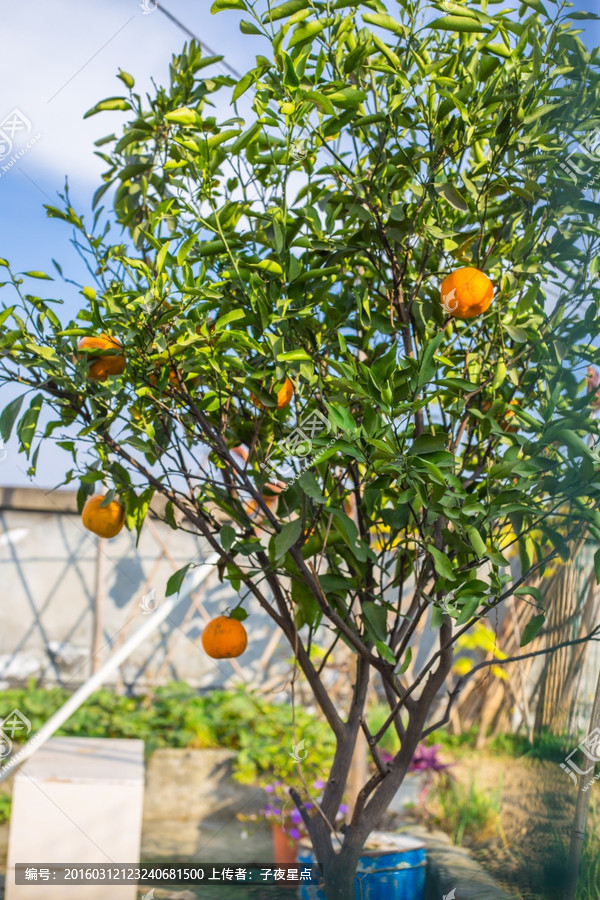orange: (441, 267, 493, 322), (72, 334, 126, 384), (200, 615, 247, 660), (247, 368, 297, 409), (80, 493, 124, 538)
